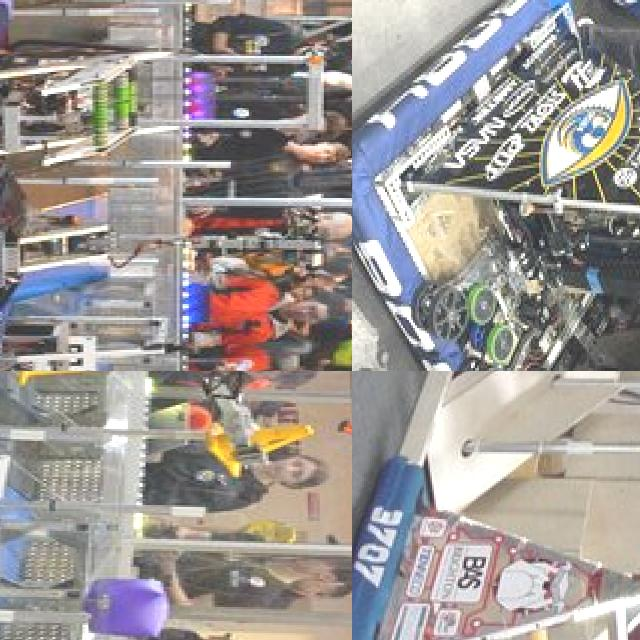FRC-Robots: (352, 0, 640, 371), (352, 371, 640, 640), (0, 371, 317, 458), (0, 0, 170, 159), (0, 164, 148, 332)
